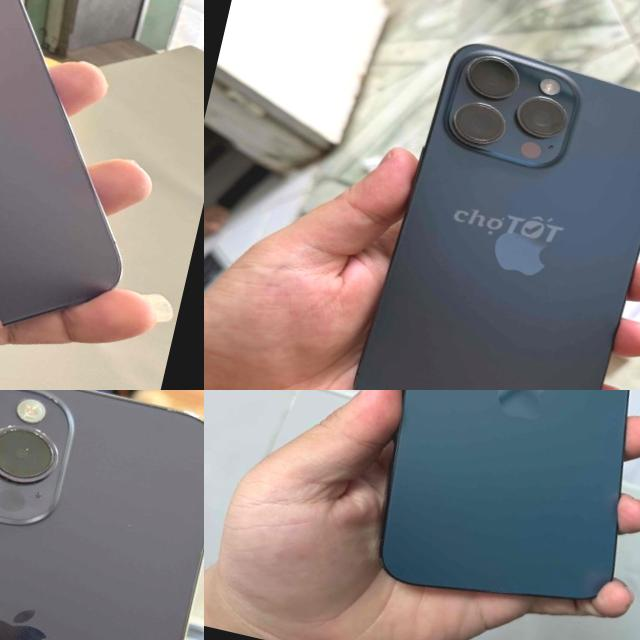gen_12_13: (330, 390, 640, 640)
gen_14: (0, 0, 204, 390), (0, 390, 204, 640)
gen_15: (317, 17, 640, 390)
